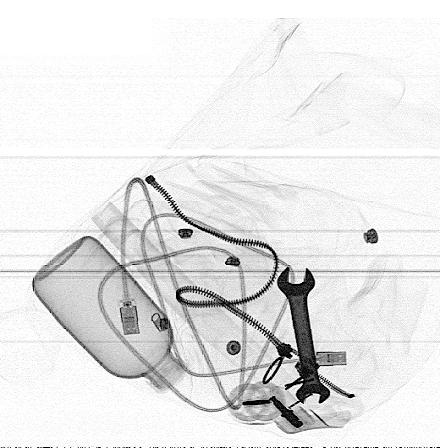Wrench: (276, 265, 332, 407)
